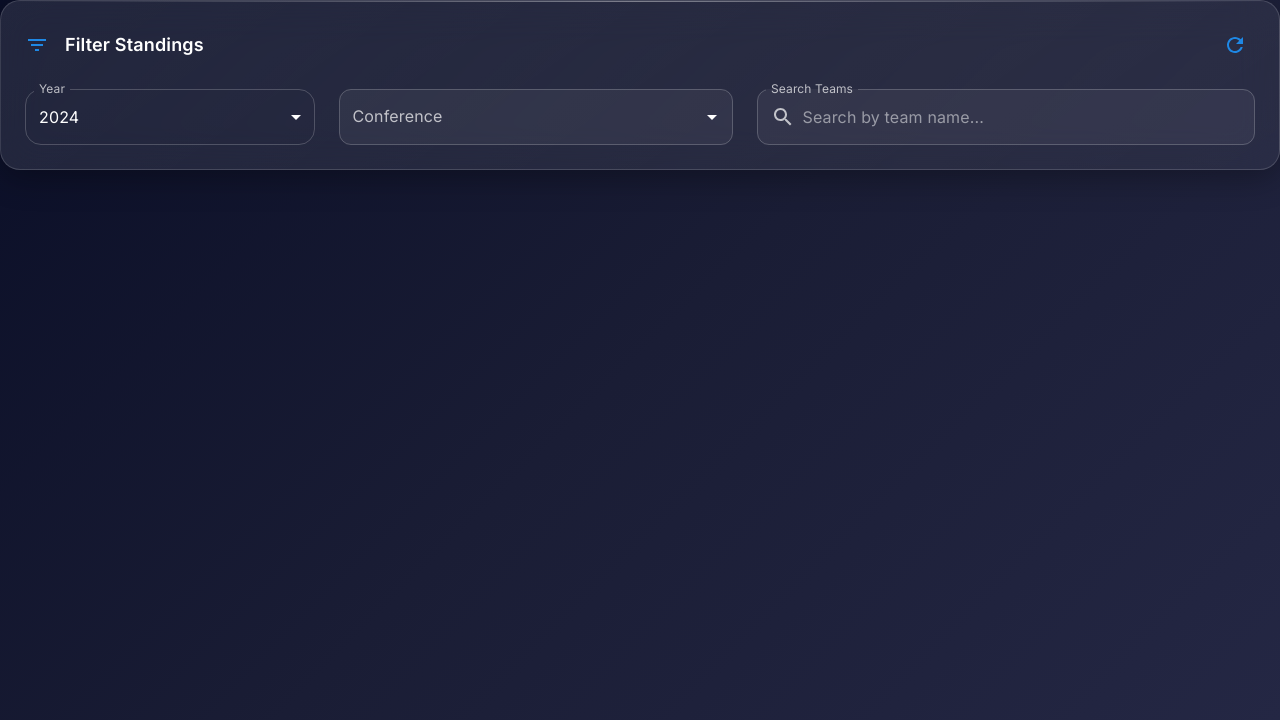
Scenario: StandingsFilters › uses default conferences when availableConferences prop is not provided
The width and height of the screenshot is (1280, 720).
// Click on conference autocomplete
Click the dropdown labelled "Conference" at (520, 117), box [348,98,694,136]
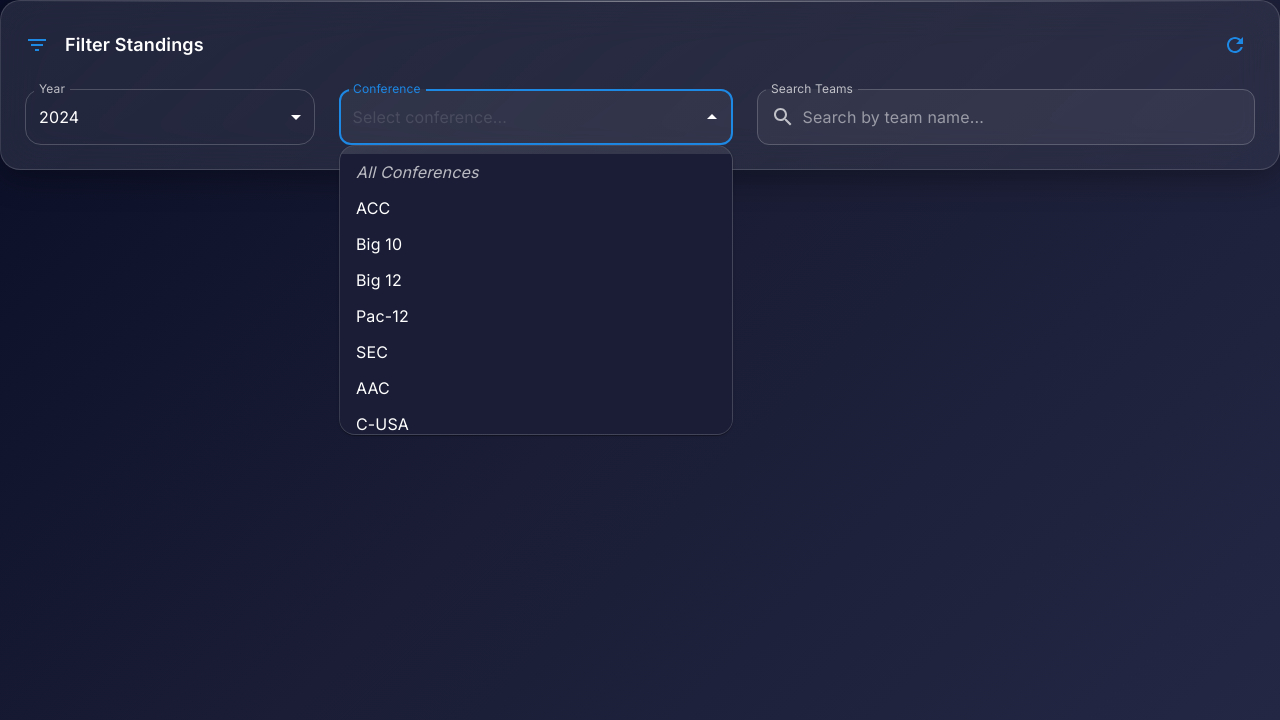
Check: the option "SEC" is shown, box [340,334,732,370]
Check: the option "ACC" is shown, box [340,190,732,226]
Check: the option "Big 10" is shown, box [340,226,732,262]
